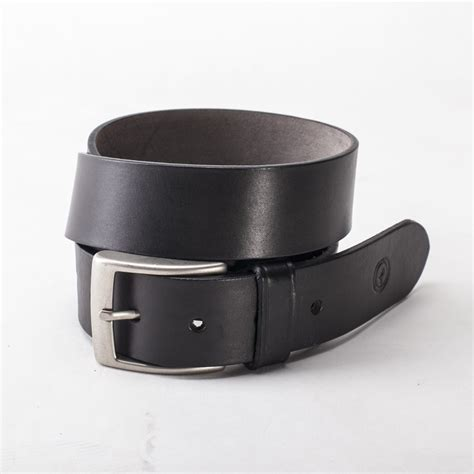cuero: (64, 107, 429, 376)
